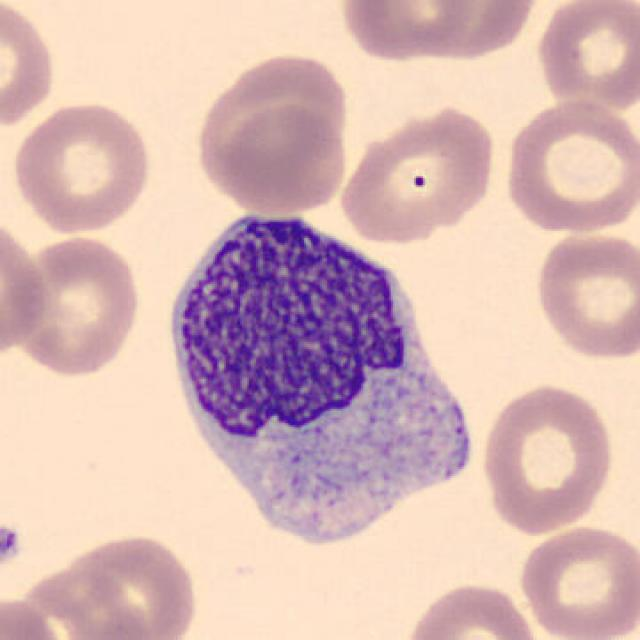Monocyte: (155, 196, 489, 564)
Platelets: (0, 520, 25, 570)
RBC: (336, 101, 500, 245), (476, 379, 618, 536), (197, 48, 355, 185), (7, 231, 146, 381), (9, 97, 155, 236), (500, 97, 638, 238), (202, 102, 354, 215), (59, 529, 201, 640), (530, 228, 638, 364), (516, 522, 638, 640), (532, 0, 638, 113), (9, 562, 156, 640), (394, 0, 544, 63), (336, 0, 476, 65), (400, 578, 544, 640), (0, 208, 52, 365), (0, 0, 60, 134), (0, 592, 68, 640)
